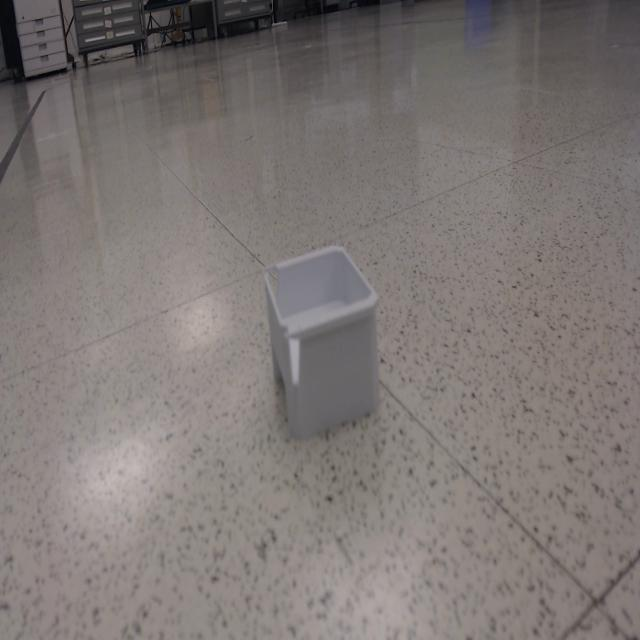wbox: (261, 240, 382, 441)
